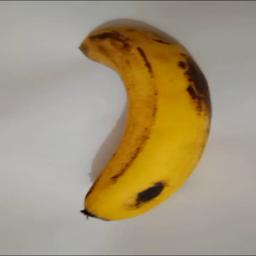Banana Semifresh: (84, 18, 213, 224)
